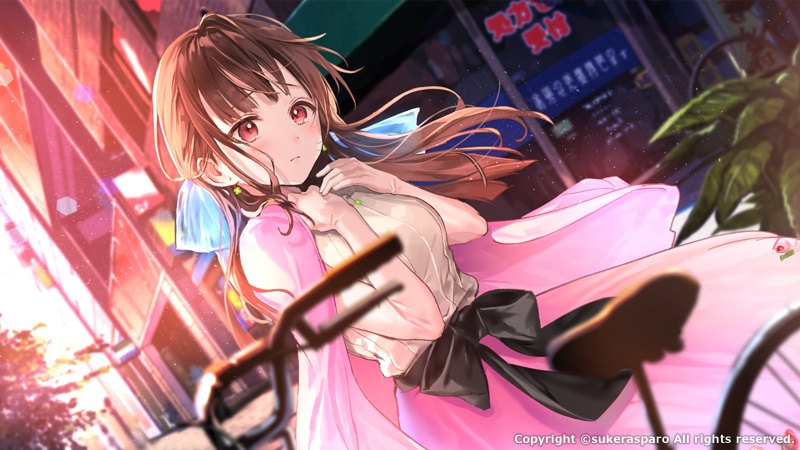纸片人正脸: (151, 8, 344, 193)
